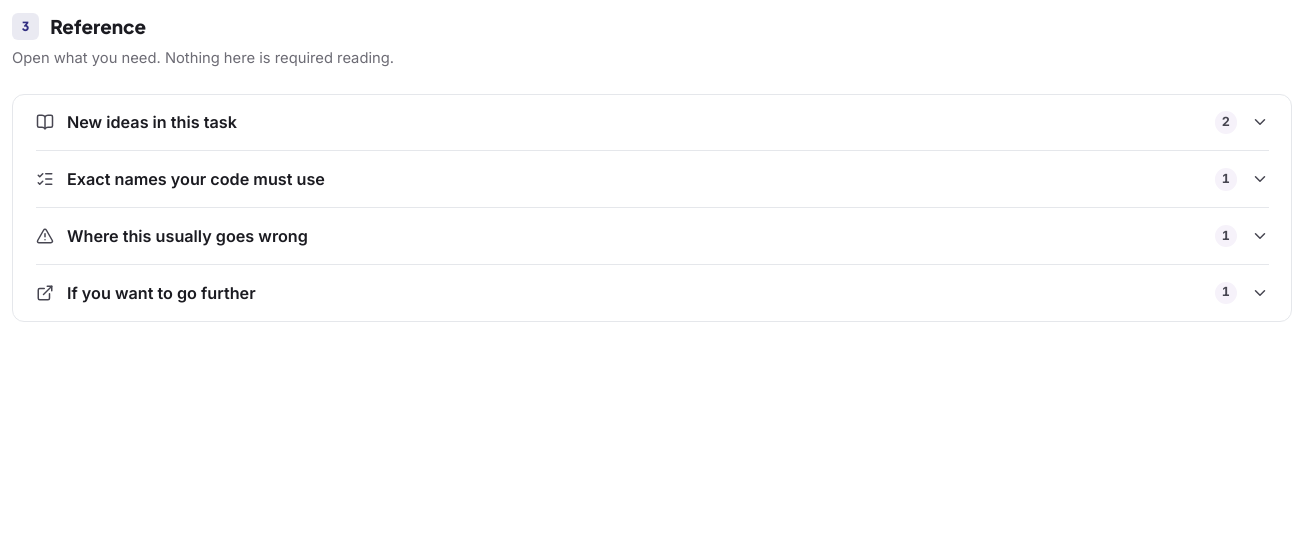
Scenario: TaskReference — what you consult › opens a section on click
Click the text "New ideas in this task" at (152,122), box [67,112,237,132]
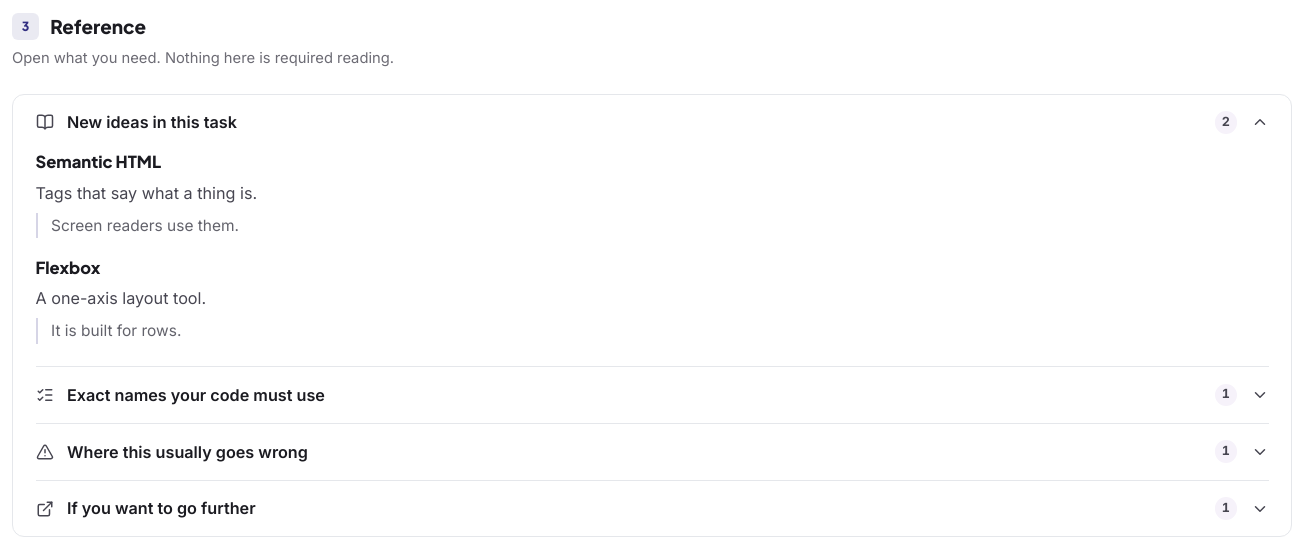
Expected: the text "Semantic HTML" is shown, [36,151,161,172]
Expected: the text "Tags that say what a thing is." is shown, [36,183,257,203]
Expected: the text "Screen readers use them." is shown, [36,213,1268,238]
